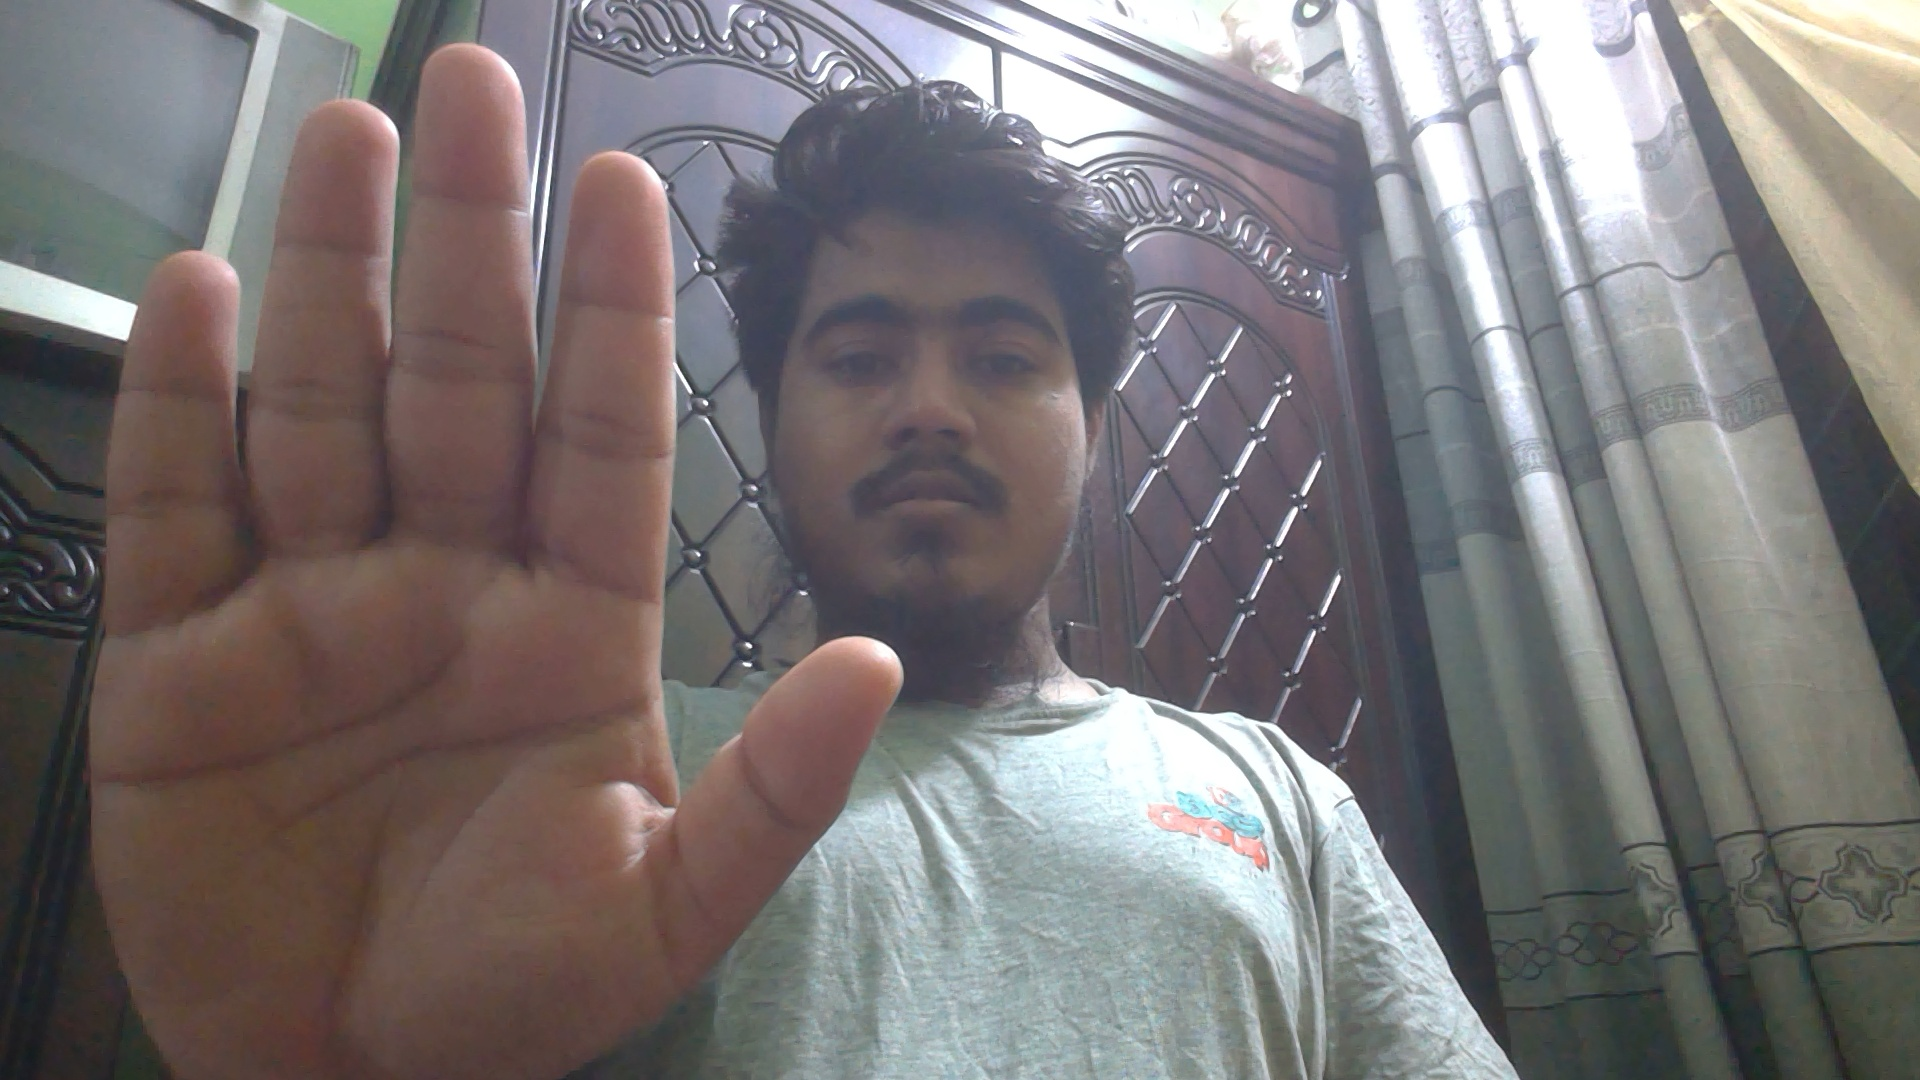Hello: (55, 29, 911, 1071)
